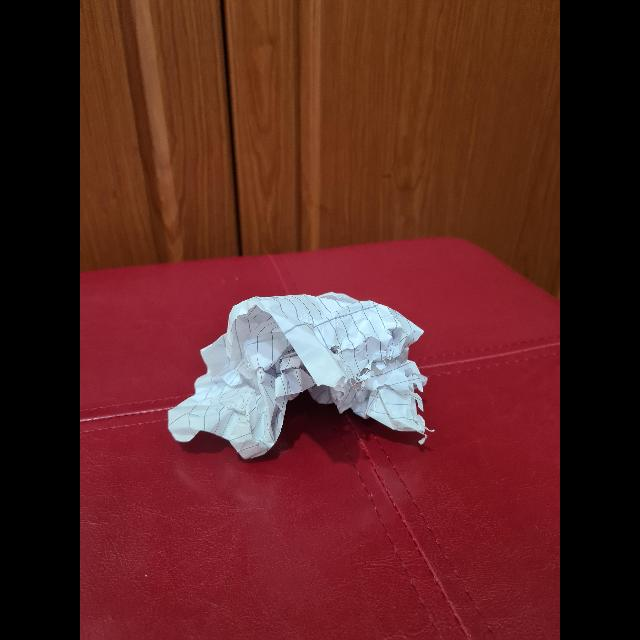trash: (172, 293, 428, 461)
